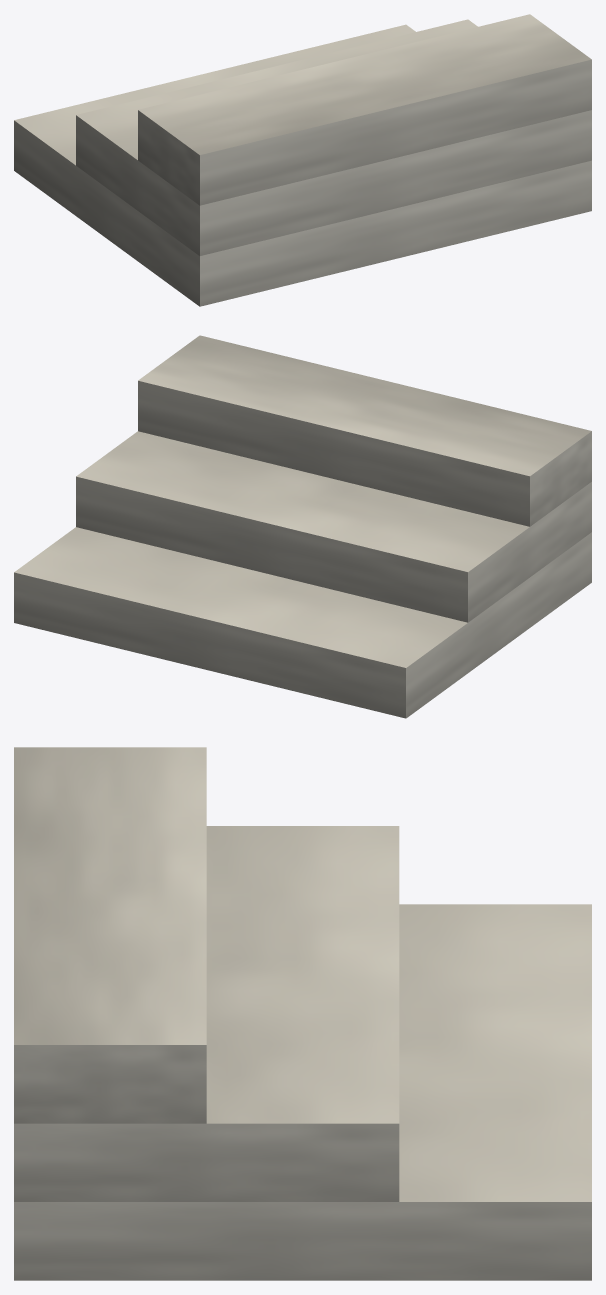
Rendered from stairs_stone_narrow_01.glb.
3 renders of one model, top to bottom at view 1: azimuth 30°, elevation 25°; view 2: azimuth 150°, elevation 25°; view 3: azimuth 270°, elevation 25°, orthographic. The views are drawn at different scales.
Visible parts, largest first — view 1: stairs_stone_narrow_01; view 2: stairs_stone_narrow_01; view 3: stairs_stone_narrow_01.
Boxes of the visible parts, x1,y1,x2,y2 form: stairs_stone_narrow_01: (14, 14, 591, 306); stairs_stone_narrow_01: (14, 335, 591, 718); stairs_stone_narrow_01: (14, 747, 591, 1280).
Size of the model in its own units: 1.46 by 0.54 by 1.2.
1 material, 1 textured.
